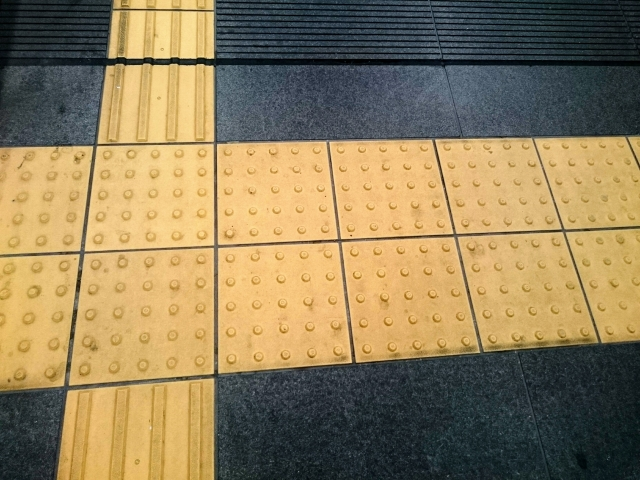dot: (82, 252, 214, 375), (221, 246, 346, 366), (348, 238, 472, 354), (463, 233, 590, 344), (94, 149, 205, 250), (219, 142, 333, 240), (1, 249, 82, 386), (336, 143, 449, 236), (440, 141, 554, 231), (1, 149, 94, 252), (541, 138, 640, 224), (575, 230, 640, 342)
line: (63, 377, 215, 480), (100, 65, 214, 146), (110, 1, 213, 59)
